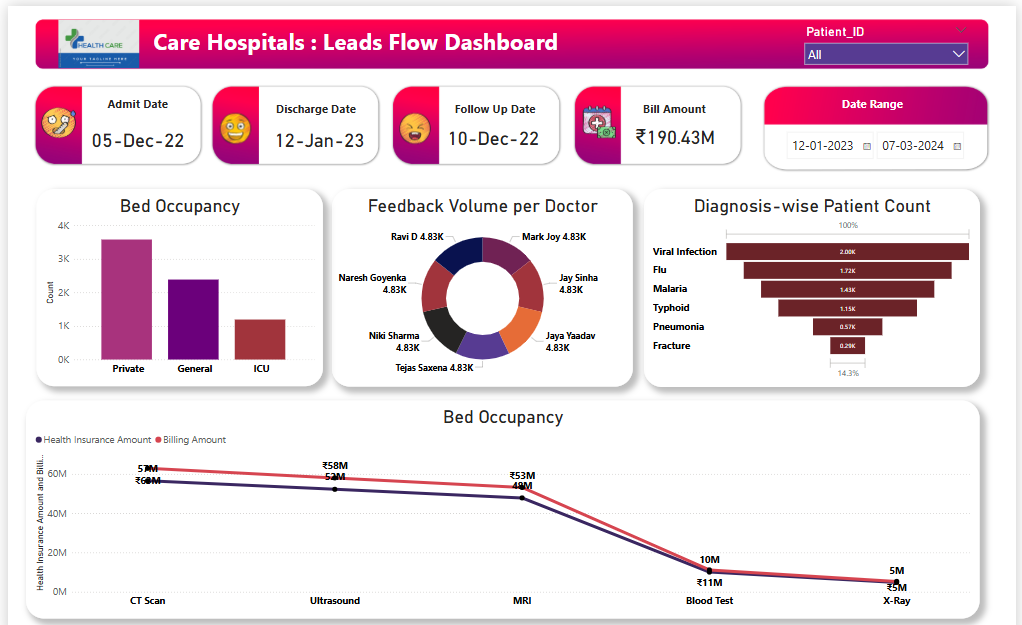

The dashboard page shown, as its layout file describes it:
{"tool":"powerbi","page":{"name":"Page 2","canvas":[1680,1050],"ordinal":0},"visuals":[{"type":"textbox","box":[236.7,26.7,798.9,74.4],"z":0},{"type":"image","box":[2636.7,100,623.3,150],"z":1000},{"type":"slicer","fields":{"Values":["Sheet1.Patient_ID"]},"box":[2400,373.3,793.3,420],"z":2000},{"type":"card","fields":{"Values":["Sheet1.Admit_Date"]},"box":[437.6,198.8,162.9,42.8],"z":3000},{"type":"card","fields":{"Values":["Sheet1.Discharge_Date"]},"box":[129.8,198.8,172.6,42.8],"z":4000},{"type":"card","fields":{"Values":["Sheet1.Followup Date"]},"box":[724.3,198.6,167.1,42.9],"z":5000},{"type":"textbox","box":[152.9,145.7,127.1,57.1],"z":6000},{"type":"textbox","box":[437.1,151.4,151.4,37.1],"z":7000},{"type":"textbox","box":[732.9,151.4,158.6,37.1],"z":8000},{"type":"textbox","box":[1035.7,151.4,151.4,37.1],"z":9000},{"type":"card","fields":{"Values":["Sheet1.Billing Amount"]},"box":[1031.4,194.3,158.6,42.9],"z":10000},{"type":"image","box":[50,157.1,68.6,74.3],"z":11000},{"type":"image","box":[348.6,172.9,62.9,62.9],"z":12000},{"type":"image","box":[640,171.4,77.1,62.9],"z":13000},{"type":"image","box":[951.4,158.6,65.7,71.4],"z":14000},{"type":"columnChart","title":"Bed Occupancy","fields":{"Category":["Sheet1.Bed_Occupancy"],"Y":["Sheet1.Bed_Occupancy"]},"box":[47.1,305.7,477.1,328.6],"z":15000},{"type":"donutChart","title":"Feedback Volume per Doctor","fields":{"Category":["Sheet1.Doctor"],"Y":["Sheet1.Feedback"]},"box":[540.2,305.2,501,329.5],"z":16000},{"type":"funnel","title":"Diagnosis-wise Patient Count","fields":{"Category":["Sheet1.Diagnosis"],"Y":["Sheet1.Diagnosis"]},"box":[1060,305.7,560,330],"z":17000},{"type":"lineChart","title":"Bed Occupancy","fields":{"Y":["Sheet1.Health Insurance Amount","Sheet1.Billing Amount"],"Category":["Sheet1.Test"]},"box":[31.1,656.3,1589.5,363.3],"z":18000},{"type":"slicer","fields":{"Values":["Sheet1.Admit_Date"]},"box":[1284.3,201.2,360.6,68.9],"z":19000},{"type":"slicer","fields":{"Values":["Sheet1.Patient_ID"]},"box":[1317.1,24.3,292.9,82.9],"z":20000},{"type":"textbox","box":[1365.7,145.7,151.4,37.1],"z":21000},{"type":"image","box":[0,16.7,302.2,91.1],"z":22000}]}

Visuals, with their boxes in screenshot pixels (x1, y1, x2, y2), scaled from the page's 1680x1050 canvas onto the 1022x625 screenshot:
textbox: [144,16,630,60]
card - Sheet1.Admit_Date: [266,118,365,144]
card - Sheet1.Discharge_Date: [79,118,184,144]
card - Sheet1.Followup Date: [441,118,542,144]
textbox: [93,87,170,121]
textbox: [266,90,358,112]
textbox: [446,90,542,112]
textbox: [630,90,722,112]
card - Sheet1.Billing Amount: [627,116,724,141]
image: [30,94,72,138]
image: [212,103,250,140]
image: [389,102,436,139]
image: [579,94,619,137]
"Bed Occupancy" columnChart: [29,182,319,378]
"Feedback Volume per Doctor" donutChart: [329,182,633,378]
"Diagnosis-wise Patient Count" funnel: [645,182,985,378]
"Bed Occupancy" lineChart: [19,391,986,607]
slicer - Sheet1.Admit_Date: [781,120,1001,161]
slicer - Sheet1.Patient_ID: [801,14,979,64]
textbox: [831,87,923,109]
image: [0,10,184,64]
